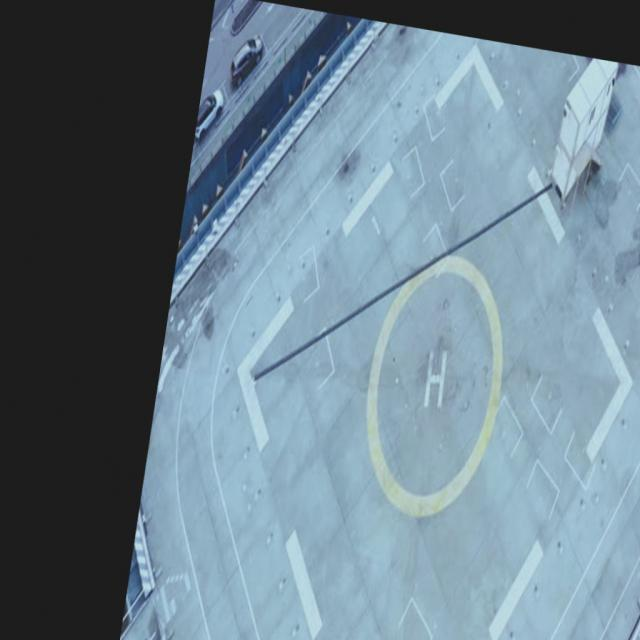helipad: (357, 250, 509, 522)
